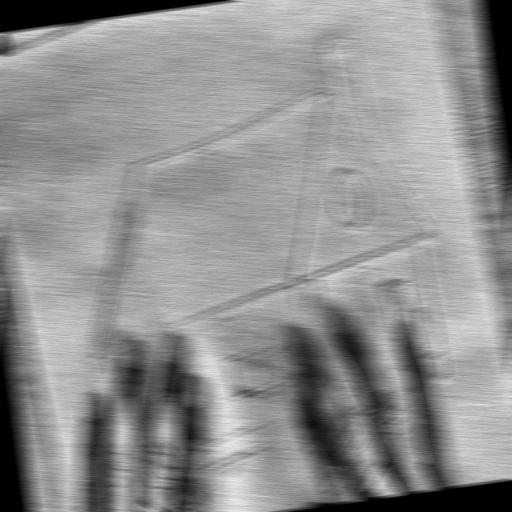house: (19, 0, 495, 512)
